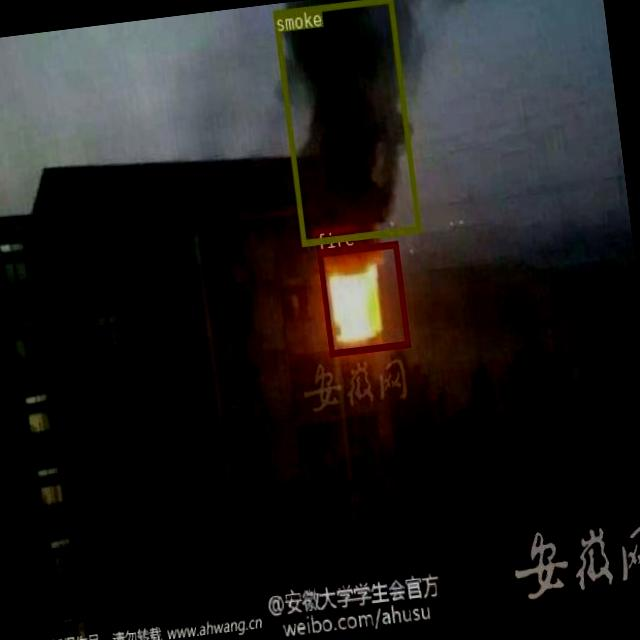fire: (316, 240, 408, 354)
smoke: (271, 0, 419, 244)
